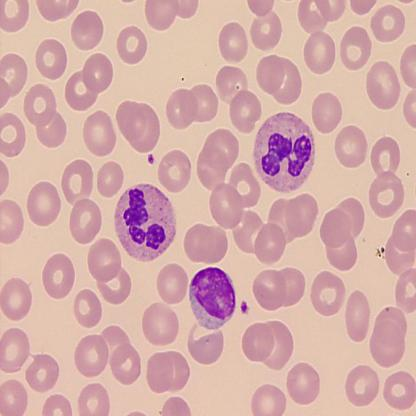Segmented neutrophil: (252, 110, 317, 195), (114, 180, 177, 264)
